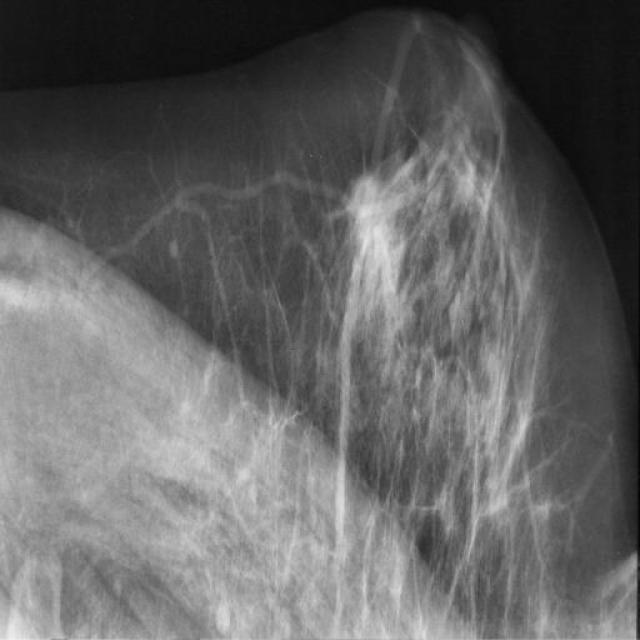cancer: (338, 144, 403, 278)
